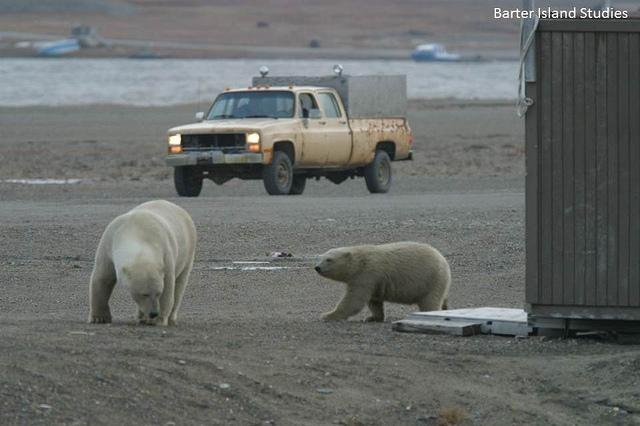car: (163, 84, 414, 198), (411, 40, 463, 62)
truck: (168, 64, 416, 197)
